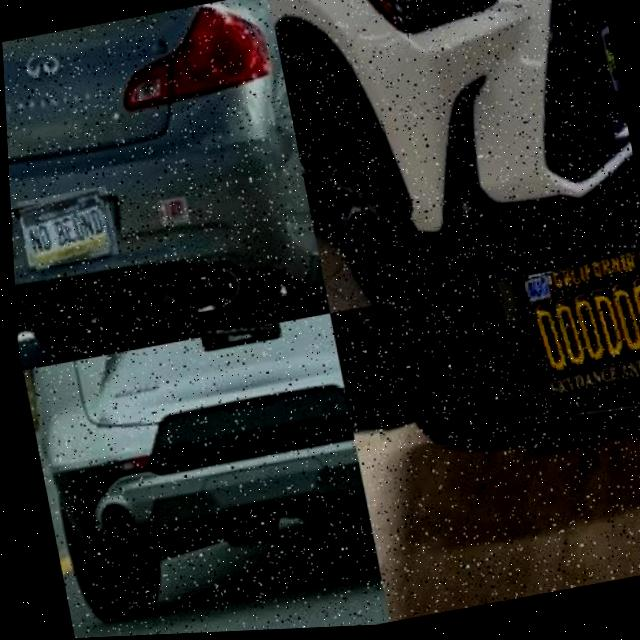LicensePlate: (509, 254, 640, 404), (17, 189, 115, 269), (198, 329, 277, 343)
